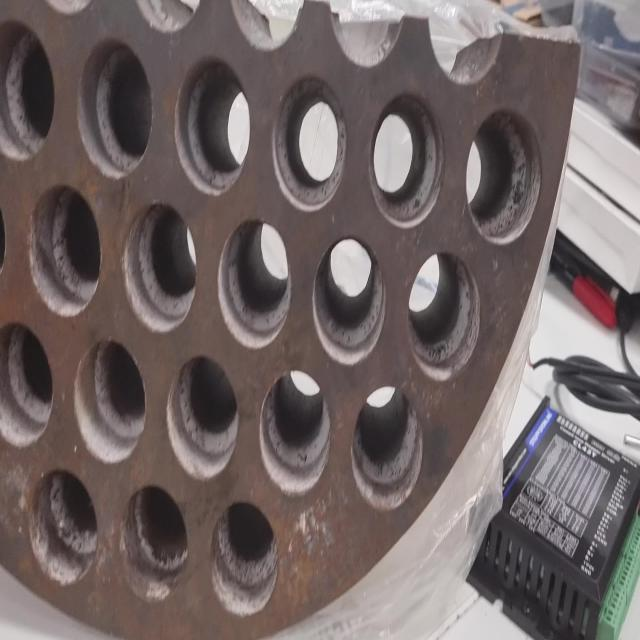Hole: (174, 54, 250, 196), (77, 37, 152, 179), (466, 107, 542, 246), (369, 90, 444, 228), (272, 75, 347, 212), (27, 182, 102, 318), (121, 200, 197, 333), (217, 216, 291, 349), (312, 234, 386, 365), (407, 250, 480, 381), (73, 336, 146, 464), (166, 353, 239, 480), (351, 384, 424, 510), (259, 370, 331, 495), (119, 482, 189, 602), (29, 465, 99, 585), (210, 499, 280, 617), (1, 18, 56, 162), (1, 320, 54, 448)
